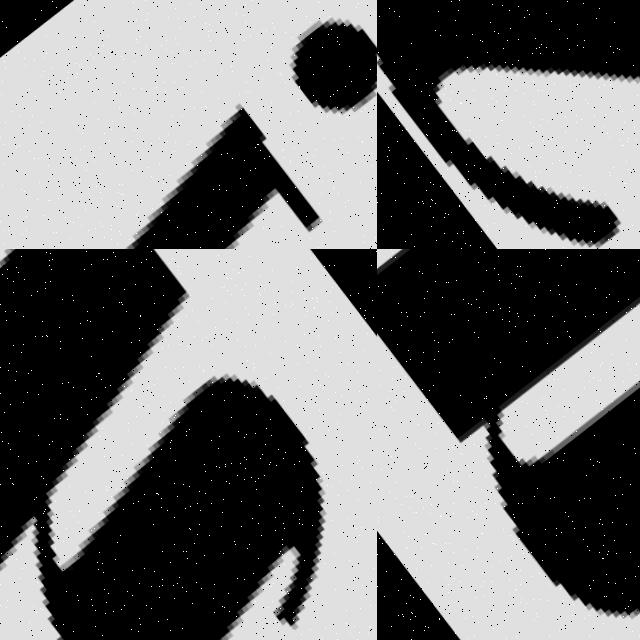J: (0, 0, 377, 249)
S: (377, 0, 640, 249)
U: (377, 249, 640, 640)
Y: (0, 249, 377, 640)
